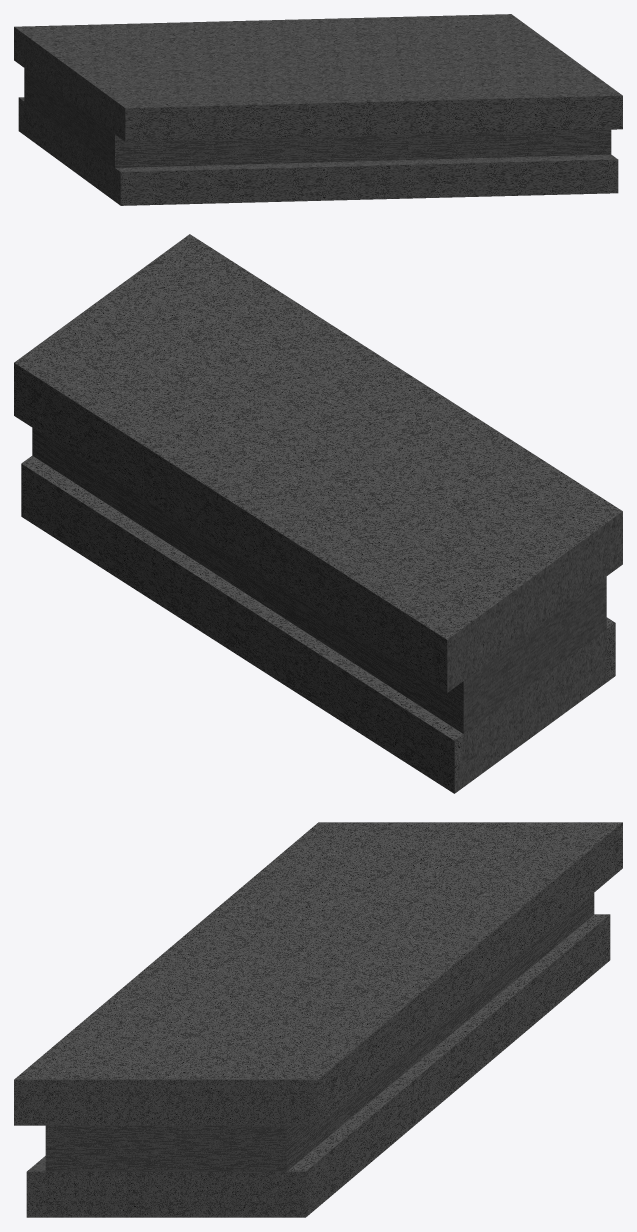
File: MegaBridgeAngle.fbx
3 views of the same model, one above another, from view 1: azimuth 30°, elevation 25°; view 2: azimuth 150°, elevation 25°; view 3: azimuth 270°, elevation 25° (orthographic). The views are drawn at different scales.
Visible parts, largest first — view 1: Cube.011; view 2: Cube.011; view 3: Cube.011.
Boxes of the visible parts, left/top/right/bottom form: Cube.011: left=14, top=14, right=622, bottom=205; Cube.011: left=14, top=234, right=622, bottom=793; Cube.011: left=14, top=822, right=622, bottom=1217.
Bounding box in the file's own units: 2400 × 600 × 2400.
